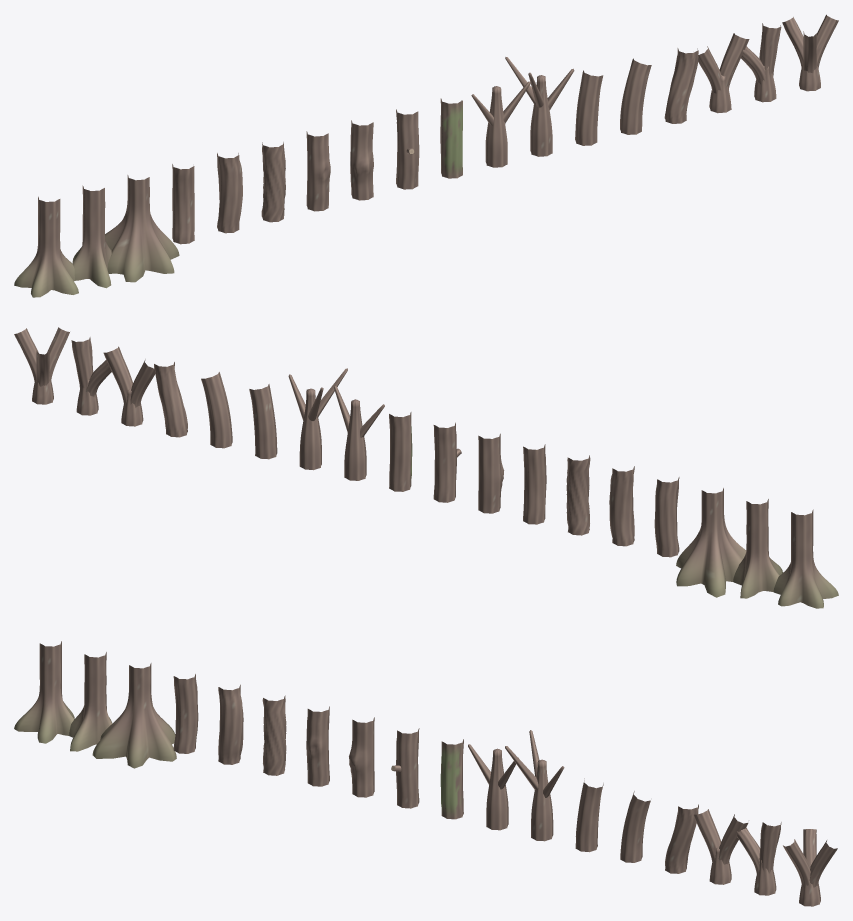
File: trunk_kit.glb
3 views of the same model, one above another, from view 1: azimuth 30°, elevation 25°; view 2: azimuth 150°, elevation 25°; view 3: azimuth 330°, elevation 25° (orthographic).
Parts seen in each view (by area): view 1: trunk_base_wide, trunk_base_a, trunk_base_b, trunk_top_b, trunk_fork_three, trunk_fork_even, trunk_top_a, trunk_mid_plain_b, trunk_mid_burl, trunk_mid_plain_a, trunk_mid_twist, trunk_mid_knot (+6 smaller); view 2: trunk_base_wide, trunk_base_a, trunk_base_b, trunk_top_b, trunk_fork_three, trunk_fork_even, trunk_top_a, trunk_mid_plain_b, trunk_mid_burl, trunk_mid_stub, trunk_mid_plain_a, trunk_mid_twist (+6 smaller); view 3: trunk_base_wide, trunk_base_a, trunk_base_b, trunk_top_b, trunk_fork_three, trunk_fork_even, trunk_mid_burl, trunk_mid_plain_b, trunk_fork_leader, trunk_top_a, trunk_mid_stub, trunk_mid_twist (+6 smaller).
Part boxes in pixels (x1,y1,x2,y2): trunk_base_wide: [105, 175, 179, 282]; trunk_base_a: [14, 196, 78, 297]; trunk_base_b: [72, 185, 111, 288]; trunk_top_b: [505, 57, 574, 156]; trunk_fork_three: [782, 14, 838, 91]; trunk_fork_even: [698, 33, 749, 113]; trunk_top_a: [471, 81, 530, 167]; trunk_mid_plain_b: [217, 153, 242, 233]; trunk_mid_burl: [350, 120, 373, 200]; trunk_mid_plain_a: [172, 164, 194, 244]; trunk_mid_twist: [261, 142, 285, 222]; trunk_mid_knot: [306, 131, 330, 211]; trunk_base_wide: [676, 488, 746, 597]; trunk_base_a: [773, 509, 838, 608]; trunk_base_b: [733, 499, 782, 598]; trunk_top_b: [288, 368, 347, 470]; trunk_fork_three: [14, 327, 69, 404]; trunk_fork_even: [103, 346, 155, 426]; trunk_top_a: [334, 385, 384, 480]; trunk_mid_plain_b: [609, 466, 634, 546]; trunk_mid_burl: [478, 433, 504, 513]; trunk_mid_stub: [433, 422, 461, 502]; trunk_mid_plain_a: [654, 477, 679, 557]; trunk_mid_twist: [566, 455, 590, 535]; trunk_base_wide: [92, 663, 176, 768]; trunk_base_a: [14, 641, 74, 743]; trunk_base_b: [69, 652, 112, 751]; trunk_top_b: [505, 730, 564, 841]; trunk_fork_three: [783, 829, 837, 906]; trunk_fork_even: [693, 809, 748, 884]; trunk_mid_burl: [349, 717, 374, 797]; trunk_mid_plain_b: [218, 684, 243, 764]; trunk_fork_leader: [736, 822, 781, 895]; trunk_top_a: [468, 744, 518, 830]; trunk_mid_stub: [391, 728, 419, 808]; trunk_mid_twist: [262, 695, 286, 775].
Bounding box in the file's own units: 45.65 × 5.63 × 4.22.
